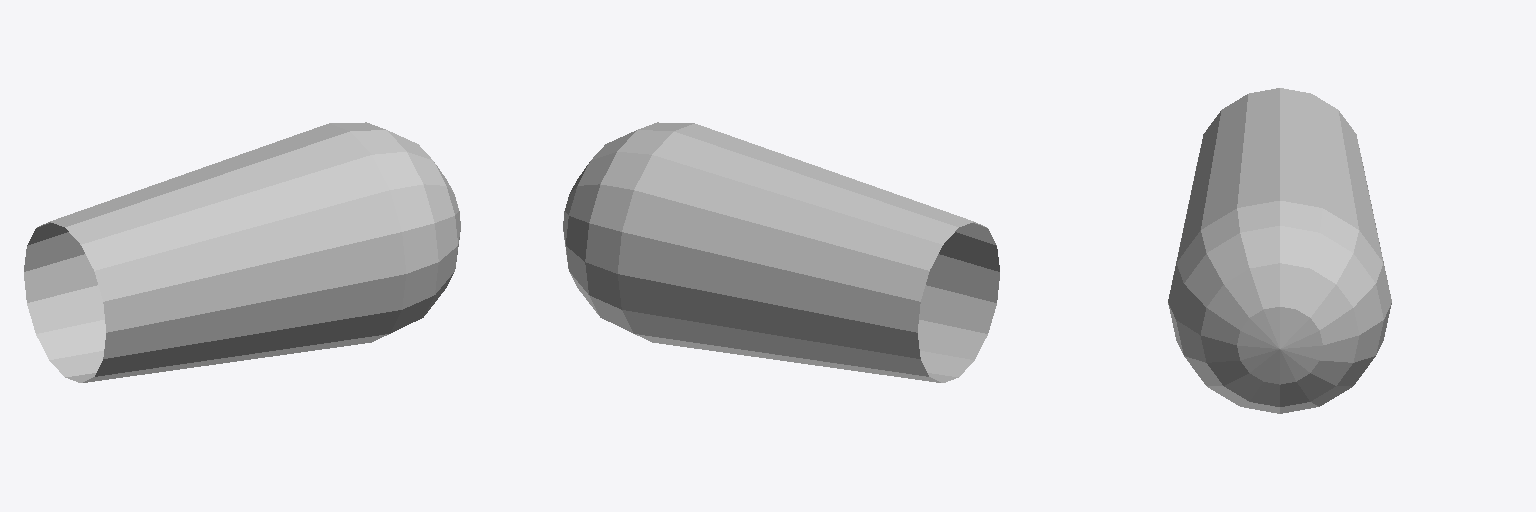
The model's file is round_projectile_head.obj.
3 renders of one model, left to right at view 1: azimuth 30°, elevation 25°; view 2: azimuth 150°, elevation 25°; view 3: azimuth 270°, elevation 25°, orthographic.
Visible parts, largest first — view 1: Sphere; view 2: Sphere; view 3: Sphere.
Part boxes in pixels (bbox=[...]): Sphere: bbox=[24, 122, 460, 382]; Sphere: bbox=[563, 122, 999, 382]; Sphere: bbox=[1168, 88, 1391, 413].
Size of the model in its own units: 0.9976 by 0.5072 by 0.5072.